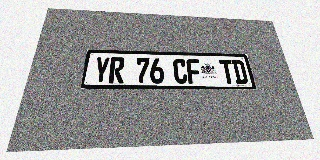6: (150, 58, 164, 84)
7: (135, 58, 150, 83)
C: (173, 59, 188, 84)
D: (231, 60, 249, 84)
F: (186, 59, 202, 84)
R: (108, 57, 125, 83)
T: (219, 60, 236, 84)
Y: (92, 57, 110, 83)
